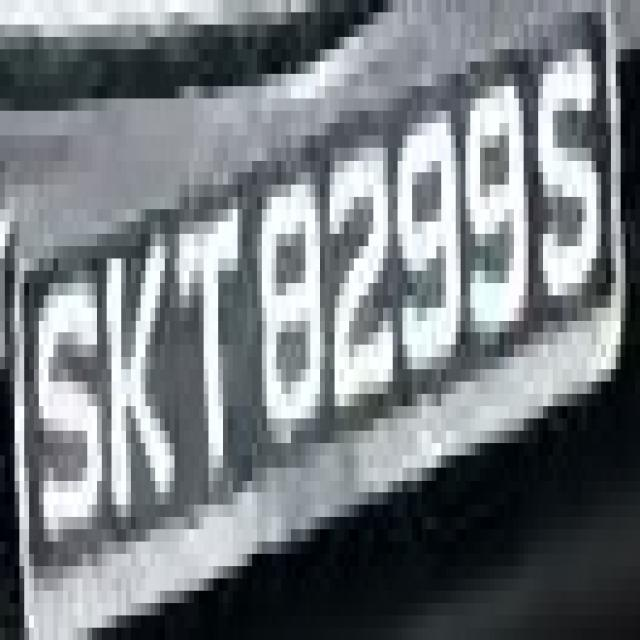2: (306, 99, 402, 443)
8: (247, 135, 320, 480)
9: (378, 123, 461, 443), (456, 62, 538, 369)
K: (92, 185, 175, 529)
S: (24, 222, 102, 566), (519, 12, 596, 357)
T: (160, 172, 252, 530)
